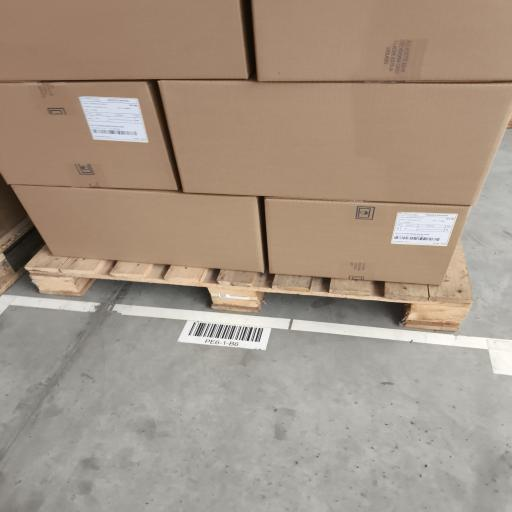pallet: (26, 242, 472, 330)
